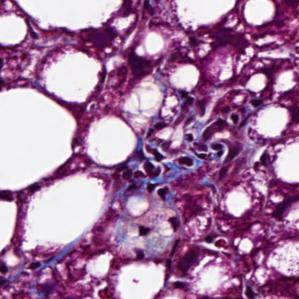inflammation: (127, 142, 198, 195), (0, 248, 60, 294), (214, 82, 263, 127)
